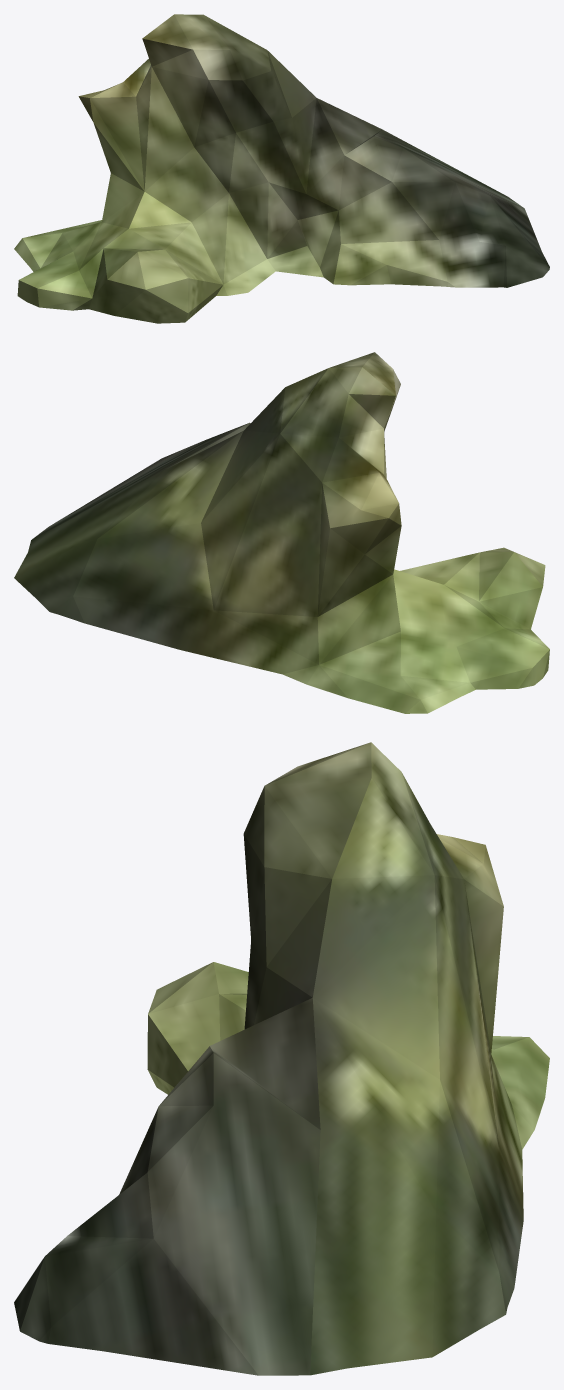
The picture shows the model from 3 angles, top to bottom: view 1: azimuth 30°, elevation 25°; view 2: azimuth 150°, elevation 25°; view 3: azimuth 270°, elevation 25°; orthographic projection. The views are drawn at different scales.
Size of the model in its own units: 2.42 by 1.2 by 1.5.
1 material, 1 textured.
